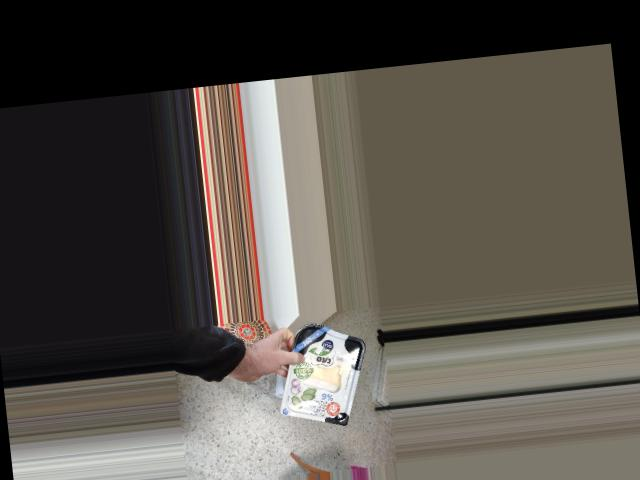cheese: (287, 326, 364, 423)
